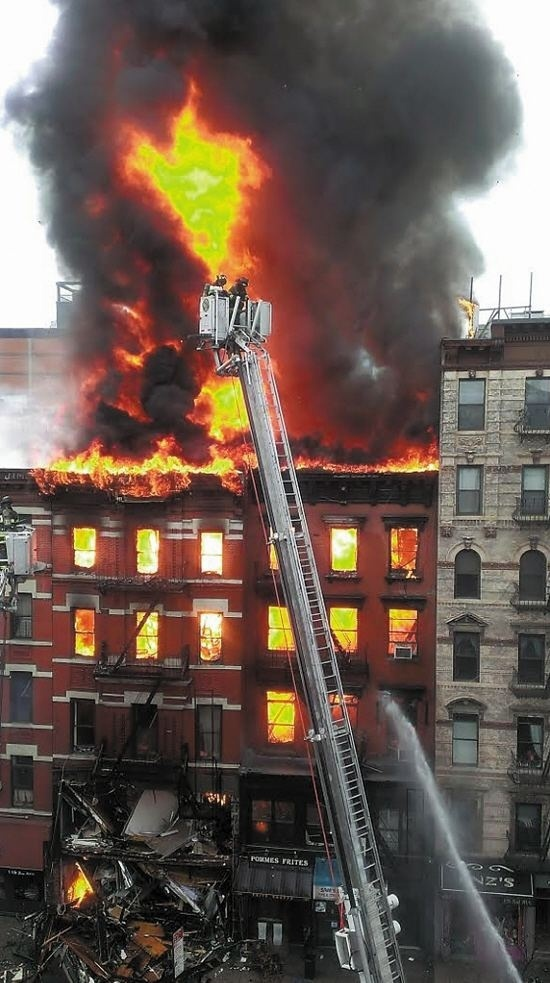fire: (126, 87, 265, 285), (294, 437, 440, 473), (264, 688, 297, 744), (133, 605, 161, 661), (387, 603, 417, 655), (198, 606, 226, 661), (387, 526, 416, 577), (265, 604, 294, 654), (328, 603, 357, 652), (65, 865, 95, 909), (134, 527, 160, 576), (198, 528, 223, 577), (71, 524, 97, 570), (72, 608, 94, 659), (205, 791, 227, 805)
